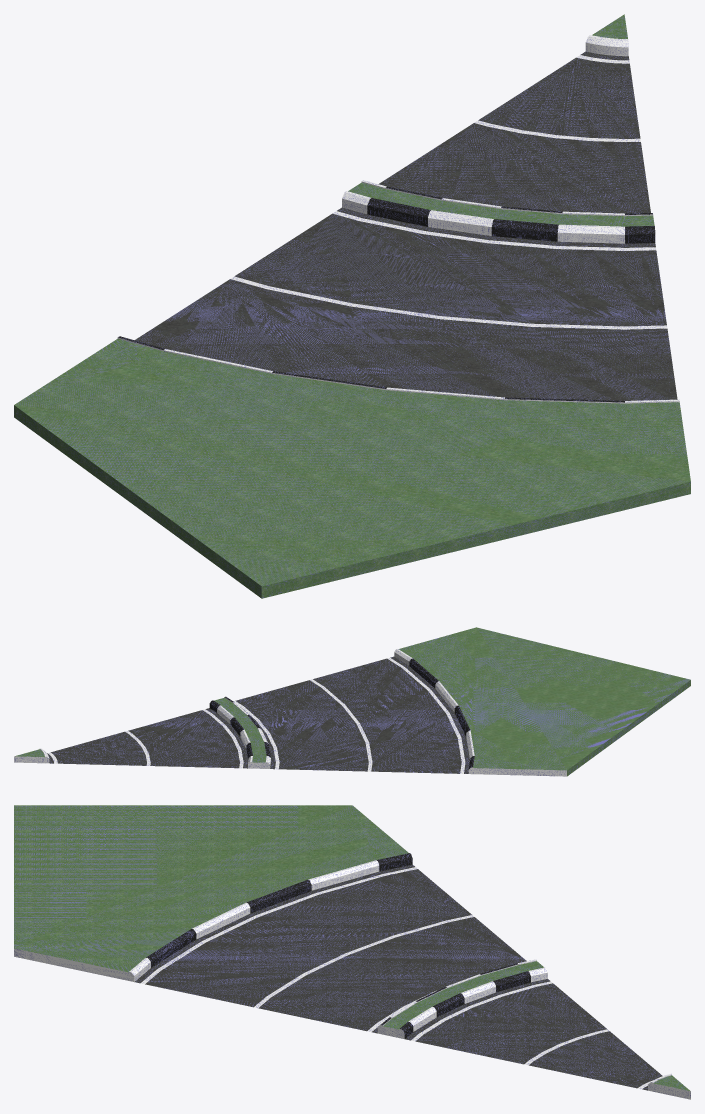
3 renders of one model, top to bottom at view 1: azimuth 30°, elevation 25°; view 2: azimuth 150°, elevation 25°; view 3: azimuth 270°, elevation 25°, orthographic. The views are drawn at different scales.
Parts seen in each view (by area): view 1: SketchUp (×13); view 2: SketchUp (×16); view 3: SketchUp (×15).
Part boxes in pixels (bbox=[...]): SketchUp (×13): bbox=[14, 57, 690, 598]; SketchUp (×16): bbox=[14, 627, 690, 776]; SketchUp (×15): bbox=[14, 805, 662, 1088].
Bounding box in the file's own units: 800 × 800 × 12.
Materials: 5 (2 with a texture image).
